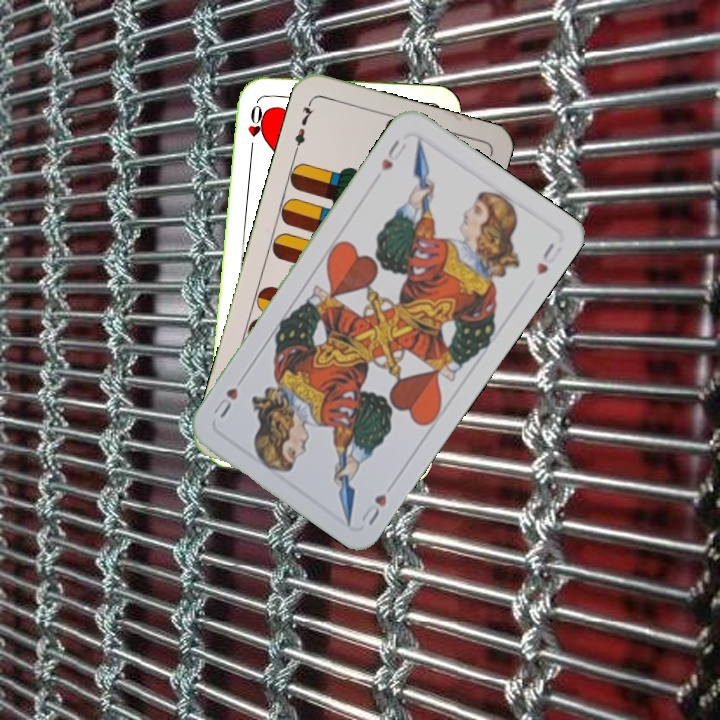E7: (290, 96, 318, 154)
HO: (244, 93, 270, 152)
HU: (376, 135, 409, 174), (357, 490, 390, 529)
